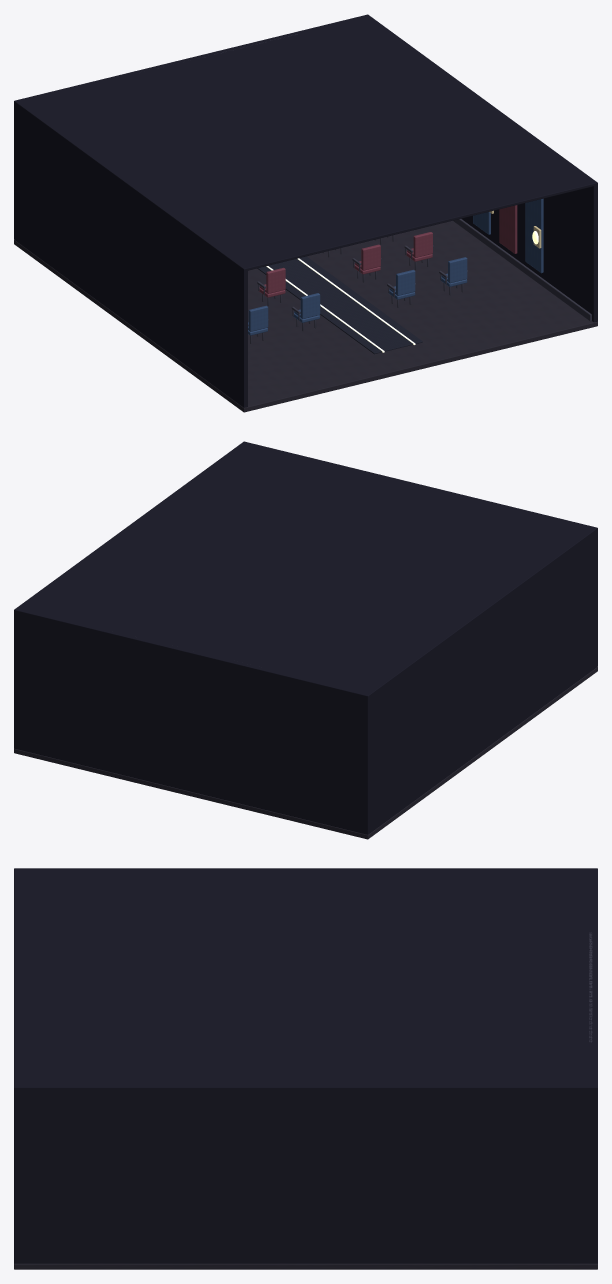
The picture shows the model from 3 angles, top to bottom: view 1: azimuth 30°, elevation 25°; view 2: azimuth 150°, elevation 25°; view 3: azimuth 270°, elevation 25°; orthographic projection. The views are drawn at different scales.
Visible parts, largest first — view 1: Presentation_Ceiling, Presentation_LeftWall, Presentation_Floor, Presentation_RightWall, Presentation_CenterAisle, Presentation_RightBaseboard, Presentation_BackWall, Presentation_Acoustic_7.55_0, Presentation_Acoustic_7.55_1, Presentation_Seat_R1_2, Presentation_Seat_R1_3, Presentation_Seat_R1_4 (+4 smaller); view 2: Presentation_Ceiling, Presentation_BackWall, Presentation_LeftWall, Presentation_Floor, Presentation_RightWall; view 3: Presentation_Ceiling, Presentation_RightWall, Presentation_Floor, Presentation_BackWall, Presentation_LeftWall.
Boxes of the visible parts, x1,y1,x2,y2 form: Presentation_Ceiling: (16, 15, 597, 270); Presentation_LeftWall: (14, 101, 247, 407); Presentation_Floor: (14, 221, 597, 412); Presentation_RightWall: (367, 16, 597, 322); Presentation_CenterAisle: (257, 256, 422, 354); Presentation_RightBaseboard: (453, 219, 591, 321); Presentation_BackWall: (14, 14, 369, 240); Presentation_Acoustic_7.55_0: (525, 198, 543, 273); Presentation_Acoustic_7.55_1: (499, 205, 517, 253); Presentation_Seat_R1_2: (291, 293, 320, 331); Presentation_Seat_R1_3: (387, 269, 415, 307); Presentation_Seat_R1_4: (439, 257, 467, 295); Presentation_Ceiling: (14, 441, 597, 696); Presentation_BackWall: (14, 609, 370, 834); Presentation_LeftWall: (364, 527, 597, 834); Presentation_Floor: (14, 667, 597, 839); Presentation_RightWall: (14, 441, 246, 749); Presentation_Ceiling: (14, 868, 597, 1090); Presentation_RightWall: (14, 1085, 597, 1263); Presentation_Floor: (14, 1263, 597, 1269); Presentation_BackWall: (592, 868, 597, 1263); Presentation_LeftWall: (14, 868, 597, 870).
Size of the model in its own units: 16 by 6.2 by 18.
13 materials, 9 textured.
